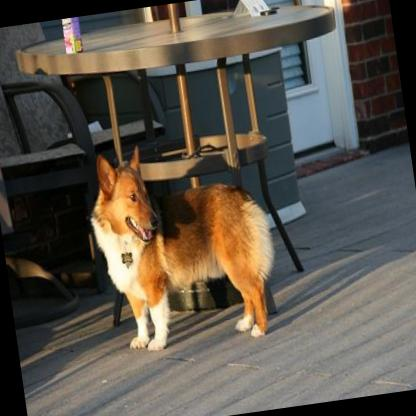Pembroke: (80, 124, 288, 356)
